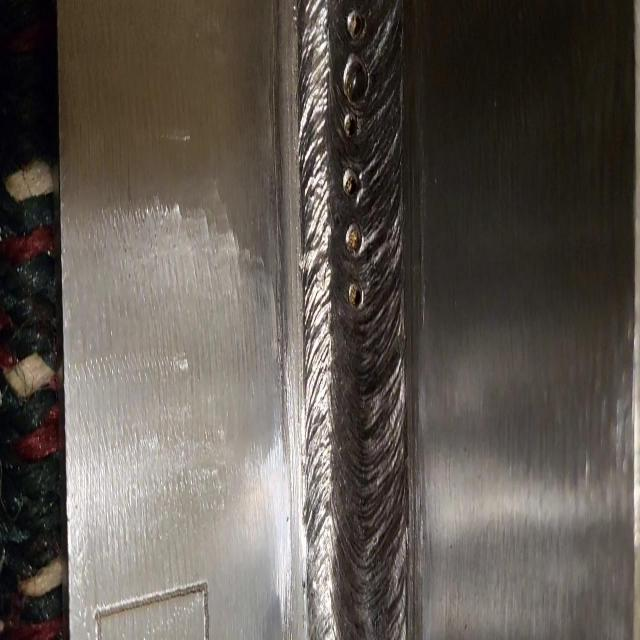Welding Line: (298, 7, 410, 640)
Workpiece: (57, 2, 640, 640)
porosity: (343, 7, 370, 315)
